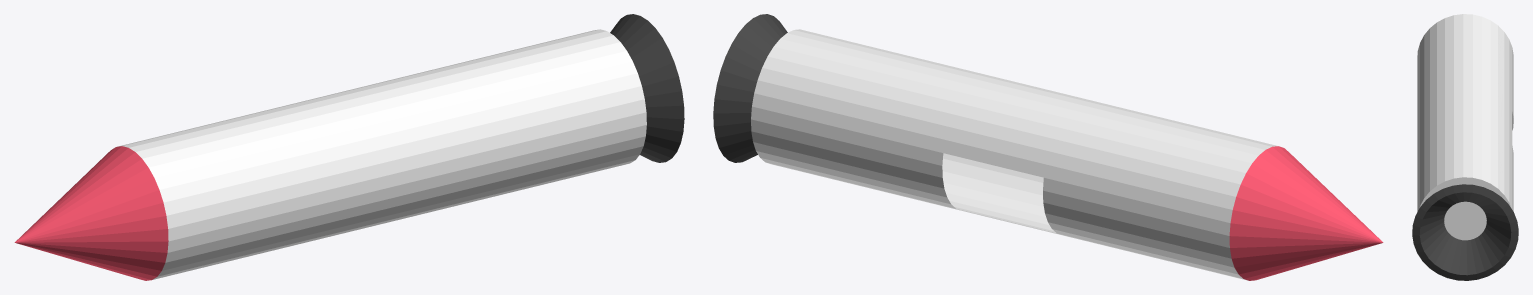
The model's file is spaceship.obj.
3 views of the same model, side by side, from view 1: azimuth 30°, elevation 25°; view 2: azimuth 150°, elevation 25°; view 3: azimuth 270°, elevation 25° (orthographic). The views are drawn at different scales.
Visible parts, largest first — view 1: 円柱; view 2: 円柱; view 3: 円柱.
Boxes of the visible parts, x1,y1,x2,y2 form: 円柱: (14, 14, 684, 280); 円柱: (713, 14, 1383, 280); 円柱: (1412, 14, 1518, 280).
Bounding box in the file's own units: 21.25 × 4.42 × 4.42.
